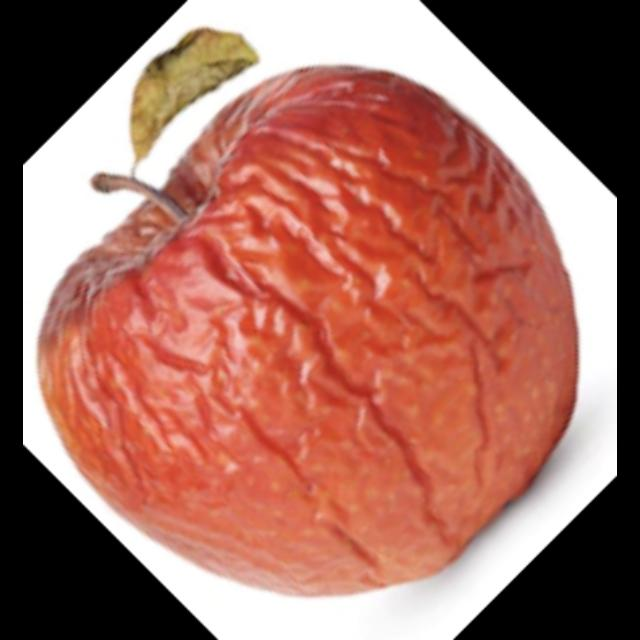Apel Tidak Segar: (23, 65, 578, 605)
